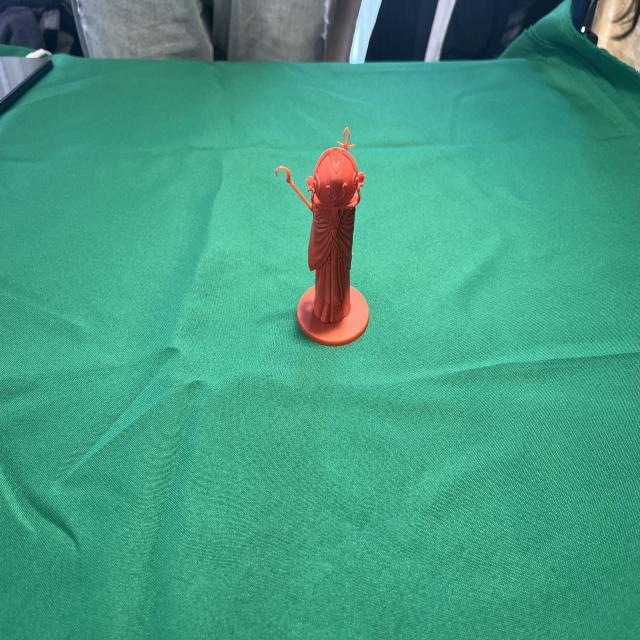amon: (270, 118, 372, 351)
